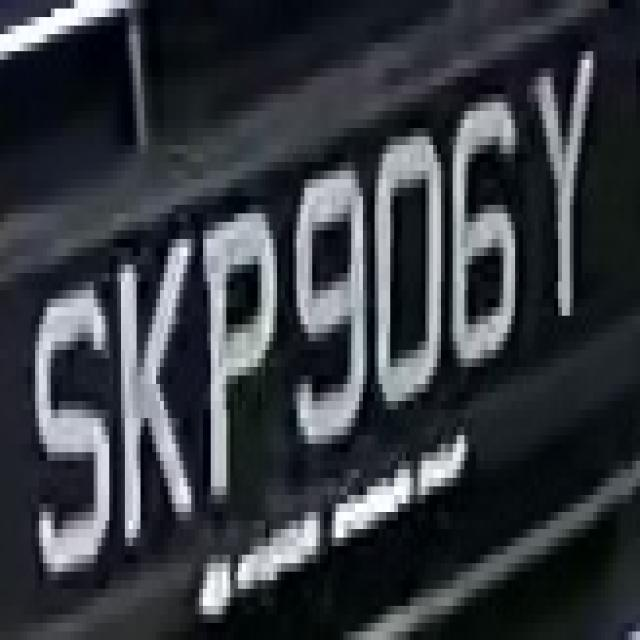0: (363, 102, 453, 436)
6: (441, 68, 519, 376)
9: (285, 145, 371, 469)
K: (117, 196, 195, 572)
P: (199, 171, 285, 529)
S: (16, 222, 113, 597)
Y: (515, 17, 613, 341)
